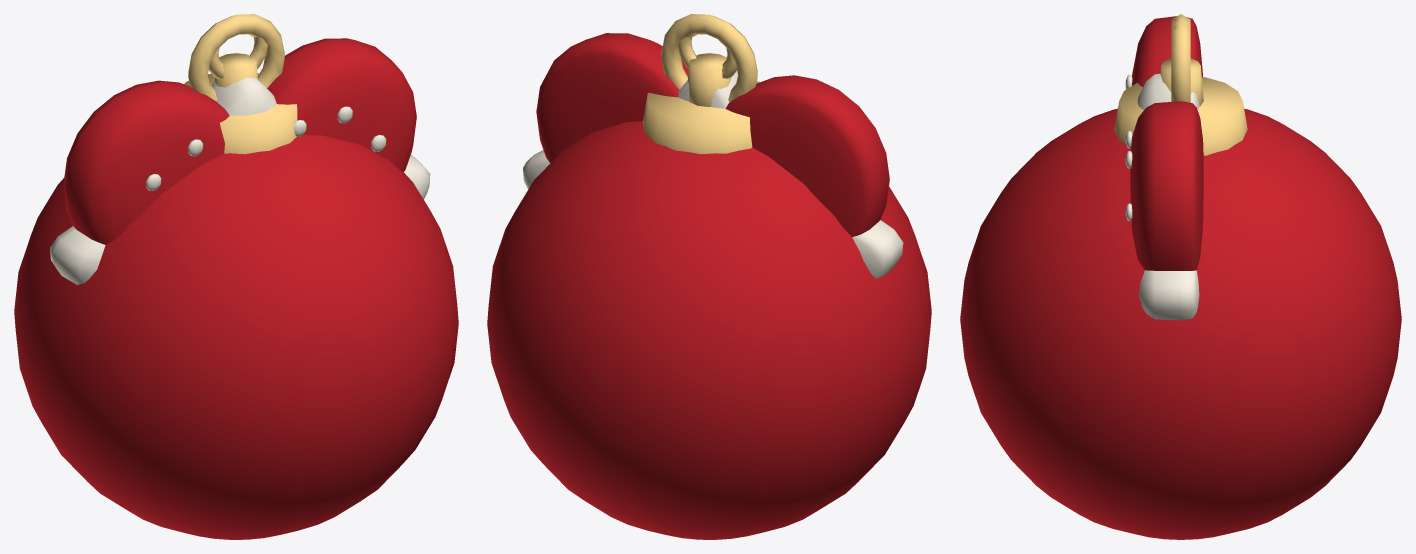
The model's file is ornaments.glb.
3 views of the same model, side by side, from view 1: azimuth 30°, elevation 25°; view 2: azimuth 150°, elevation 25°; view 3: azimuth 270°, elevation 25° (orthographic).
Parts seen in each view (by area): view 1: t_Orn_Ball, t_Orn_Heart, t_Orn_Star; view 2: t_Orn_Ball, t_Orn_Heart, t_Orn_Star; view 3: t_Orn_Ball, t_Orn_Heart, t_Orn_Star.
Boxes of the visible parts, left/top/right/bottom form: t_Orn_Ball: left=14, top=14, right=458, bottom=539; t_Orn_Heart: left=63, top=14, right=416, bottom=244; t_Orn_Star: left=50, top=77, right=430, bottom=284; t_Orn_Ball: left=487, top=14, right=931, bottom=539; t_Orn_Heart: left=536, top=14, right=889, bottom=237; t_Orn_Star: left=523, top=71, right=903, bottom=278; t_Orn_Ball: left=960, top=14, right=1401, bottom=539; t_Orn_Heart: left=1125, top=16, right=1203, bottom=270; t_Orn_Star: left=1137, top=73, right=1199, bottom=320.
Size of the model in its own units: 2 by 2.5 by 2.
